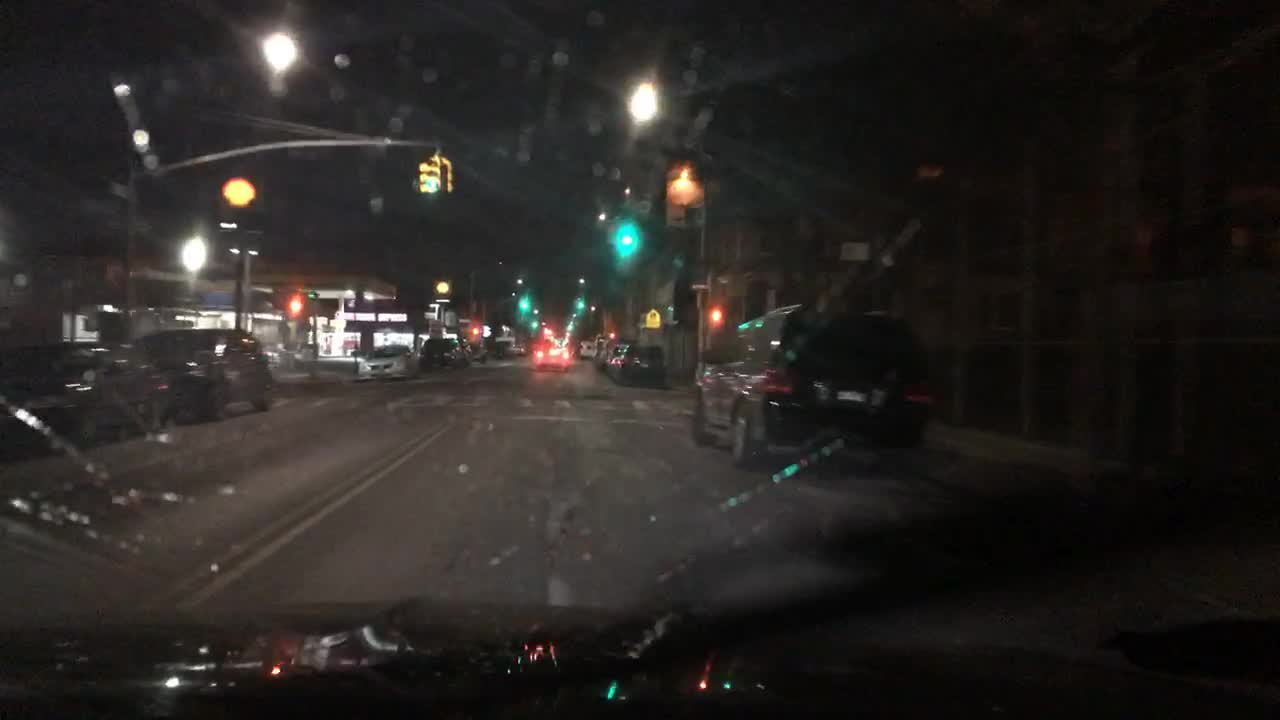car: (688, 303, 928, 472), (110, 328, 277, 426), (2, 342, 171, 436), (356, 343, 419, 380), (611, 343, 665, 386), (414, 334, 472, 367), (533, 343, 571, 372), (593, 336, 618, 364), (468, 340, 488, 364), (577, 340, 594, 359), (509, 341, 523, 356)
traffic light: (222, 168, 252, 213), (618, 229, 639, 251), (428, 160, 440, 197), (446, 160, 456, 192), (418, 163, 428, 192), (710, 308, 723, 321), (290, 297, 301, 312)
traffic sign: (644, 306, 660, 329)
